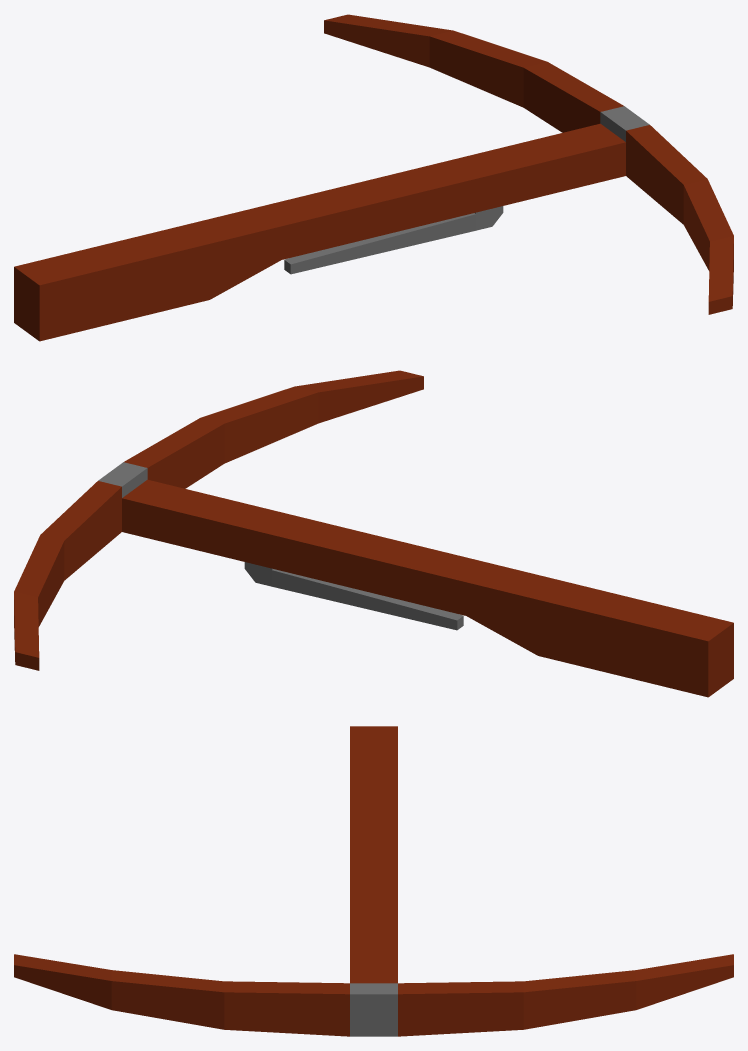
The model's file is Crossbow.obj.
The picture shows the model from 3 angles, top to bottom: view 1: azimuth 30°, elevation 25°; view 2: azimuth 150°, elevation 25°; view 3: azimuth 270°, elevation 25°; orthographic projection. The views are drawn at different scales.
Visible parts, largest first — view 1: Crossbow_Cube; view 2: Crossbow_Cube; view 3: Crossbow_Cube.
Boxes of the visible parts, left/top/right/bottom form: Crossbow_Cube: left=14, top=14, right=733, bottom=341; Crossbow_Cube: left=14, top=370, right=733, bottom=697; Crossbow_Cube: left=14, top=726, right=733, bottom=1036.
Bounding box in the file's own units: 1.18 × 0.1317 × 1.29.
